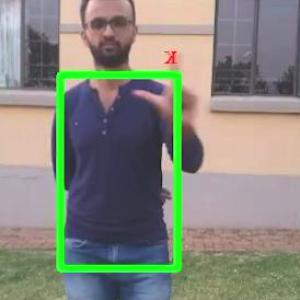land_hand: (132, 42, 202, 124)
